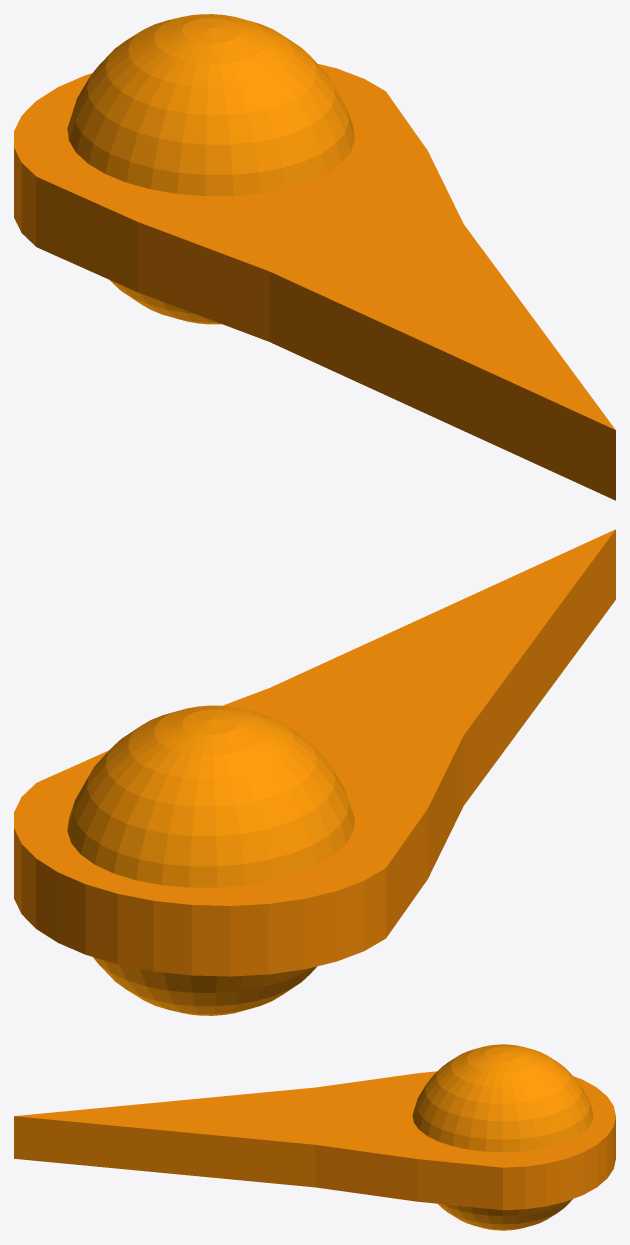
The model's file is PlayerBullet1.dae.
3 renders of one model, top to bottom at view 1: azimuth 30°, elevation 25°; view 2: azimuth 150°, elevation 25°; view 3: azimuth 270°, elevation 25°, orthographic. The views are drawn at different scales.
Parts seen in each view (by area): view 1: Sphere.001, Sphere; view 2: Sphere.001, Sphere; view 3: Sphere.001, Sphere.
Boxes of the visible parts, box(x1,y1,x2,y2) form: Sphere.001: box(14, 64, 615, 500); Sphere: box(67, 14, 354, 324); Sphere.001: box(14, 529, 615, 976); Sphere: box(67, 705, 354, 1015); Sphere.001: box(14, 1071, 615, 1210); Sphere: box(412, 1044, 593, 1230).
Bounding box in the file's own units: 1.04 × 2.56 × 0.8.
